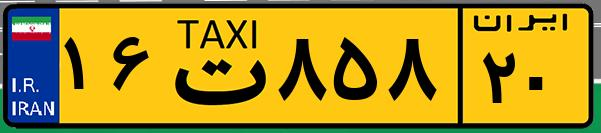0: (525, 38, 570, 115)
1: (57, 26, 110, 100)
2: (475, 38, 525, 113)
5: (330, 28, 385, 110)
6: (110, 28, 158, 98)
8: (270, 28, 330, 110), (385, 28, 445, 110)
ت: (158, 12, 270, 120)
